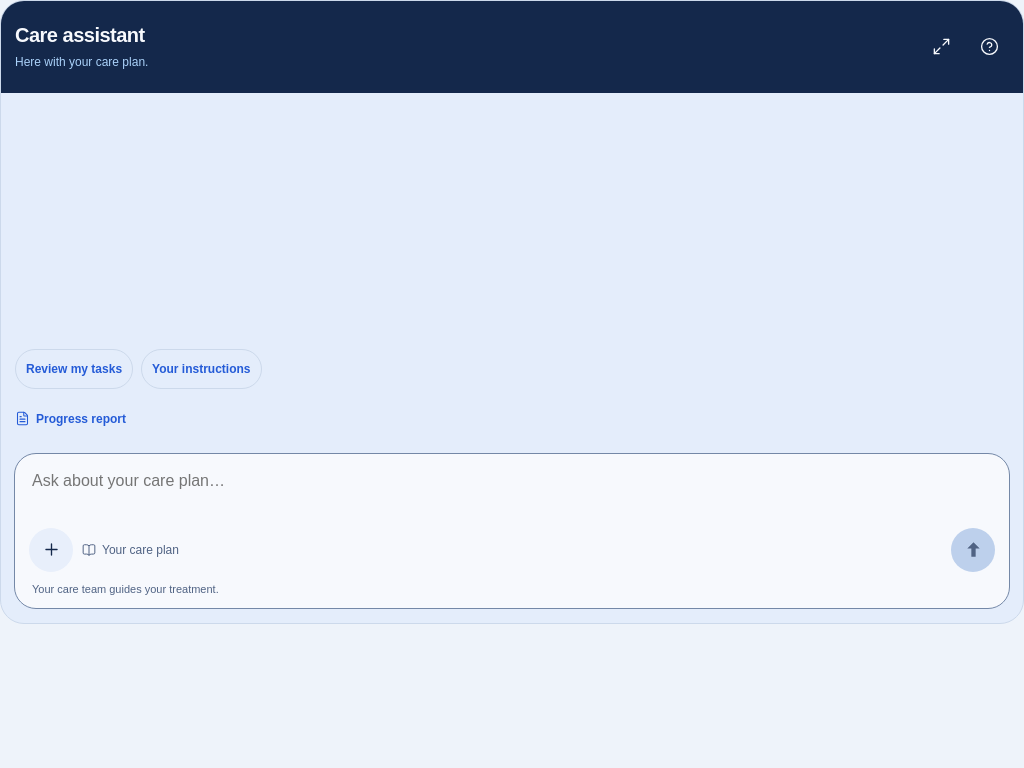
Test: asks guests to add an email when notify-doctor answers guest_must_sign_up
Click the button "Review my tasks" at (74, 369), box [15,349,133,389]
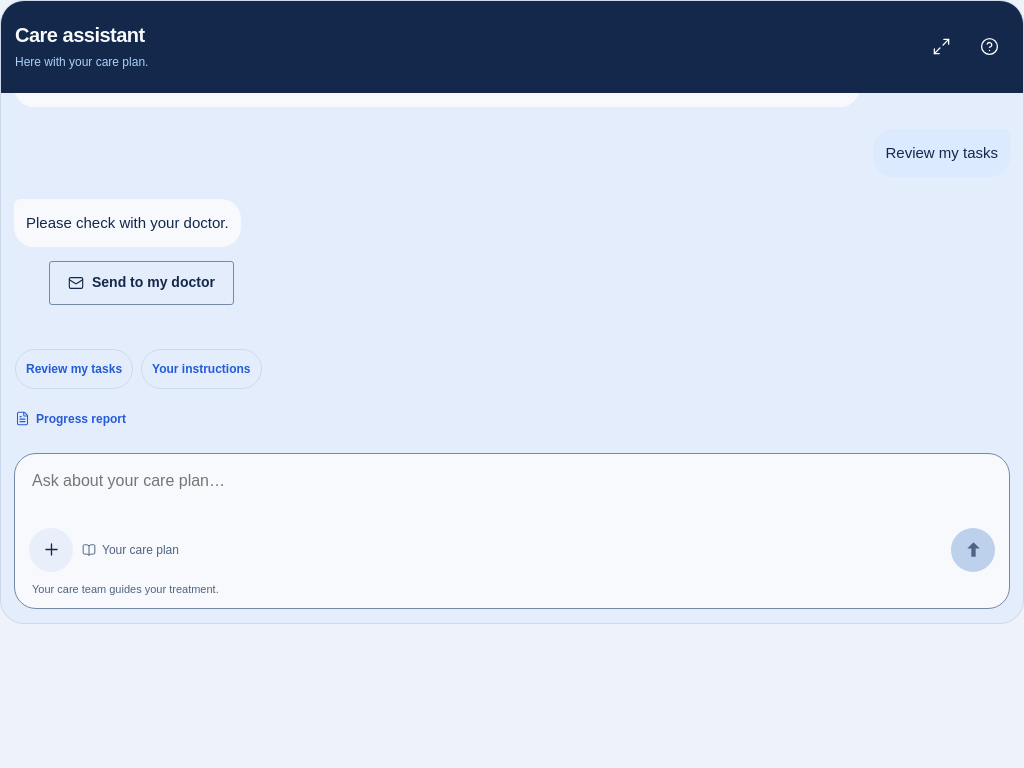
expect the button "Send to my doctor" is shown: met
Click the button "Send to my doctor" at (141, 283), box [49,261,234,305]
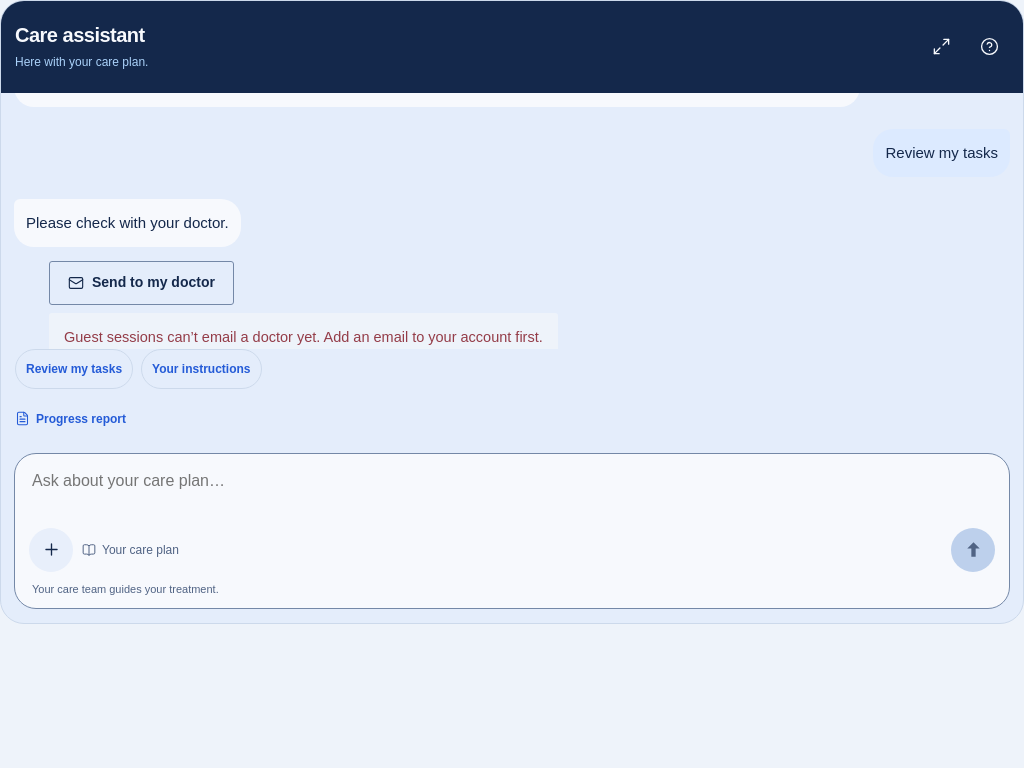
expect the message "Guest sessions can’t email a doctor yet. Add an email to your account first." is shown: met, box [49,313,558,349]
